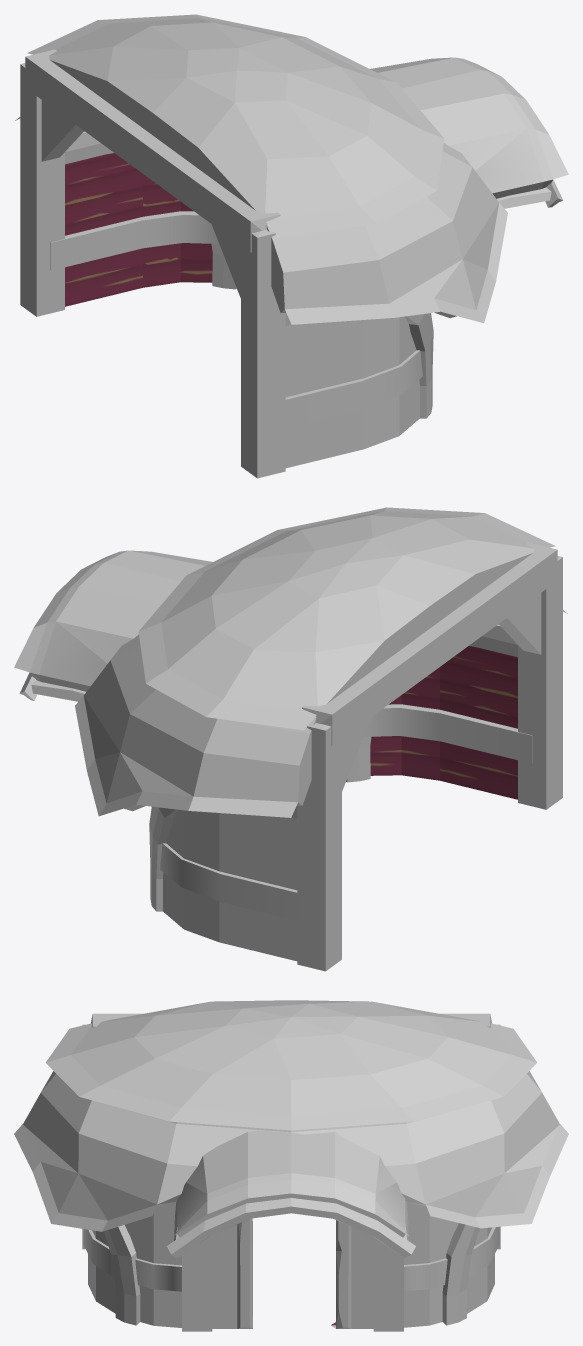
The model's file is SM_Bld_Roof_Thatch_Preset_Round_02.fbx.
3 renders of one model, top to bottom at view 1: azimuth 30°, elevation 25°; view 2: azimuth 150°, elevation 25°; view 3: azimuth 270°, elevation 25°, orthographic. The views are drawn at different scales.
Parts seen in each view (by area): view 1: SM_Bld_Roof_Thatch_Preset_Round_02; view 2: SM_Bld_Roof_Thatch_Preset_Round_02; view 3: SM_Bld_Roof_Thatch_Preset_Round_02.
Part boxes in pixels (x1,y1,x2,y2): SM_Bld_Roof_Thatch_Preset_Round_02: (15, 14, 568, 478); SM_Bld_Roof_Thatch_Preset_Round_02: (14, 507, 567, 971); SM_Bld_Roof_Thatch_Preset_Round_02: (14, 1000, 568, 1331).
Size of the model in its own units: 476 by 374 by 713.
